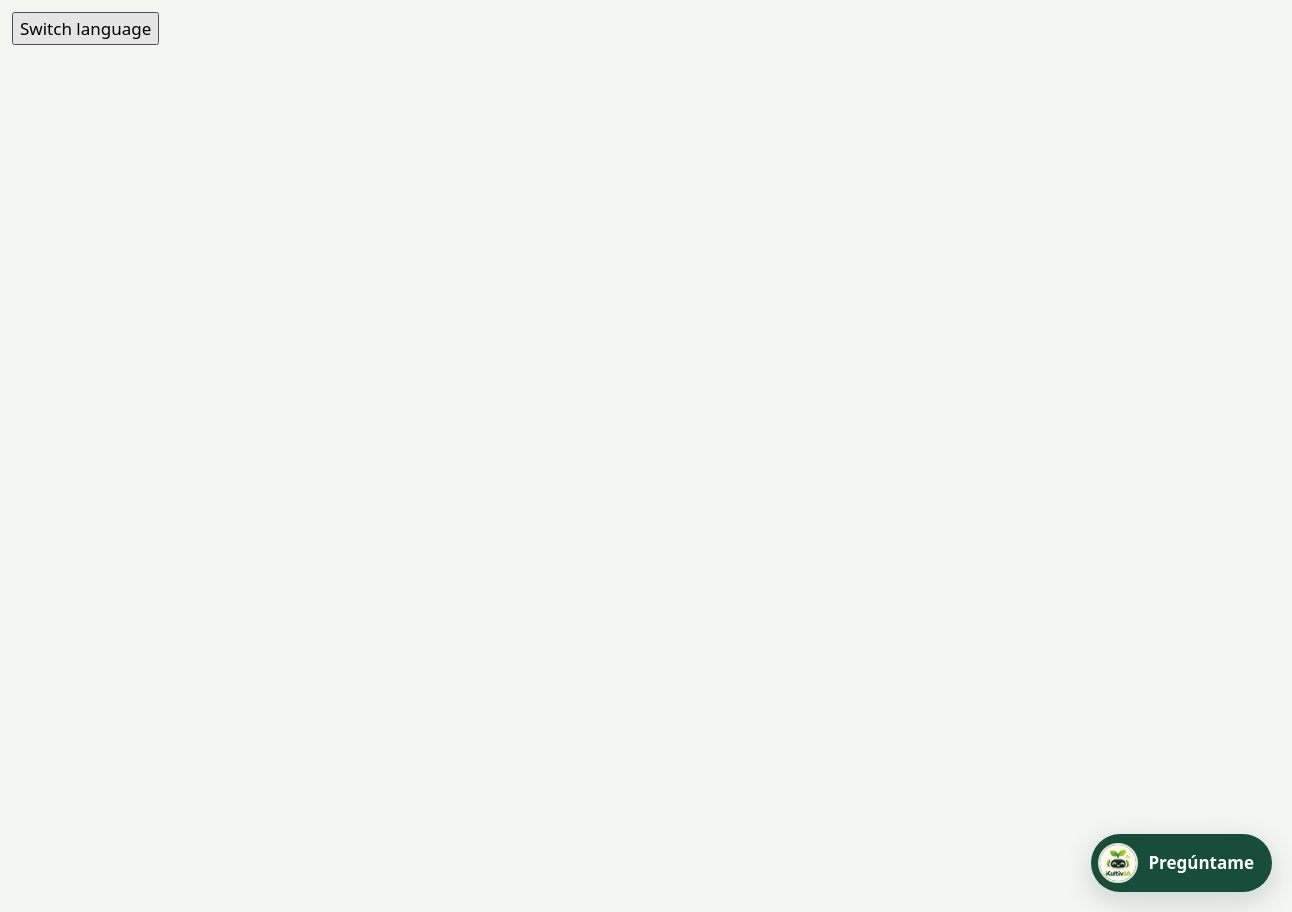
chat times out, restores the question and unlocks sending
What coordinates should you click on to do the following:
click the button "Pregúntame"
I would click on:
 (1182, 863)
Its box is [1091,834,1272,892].
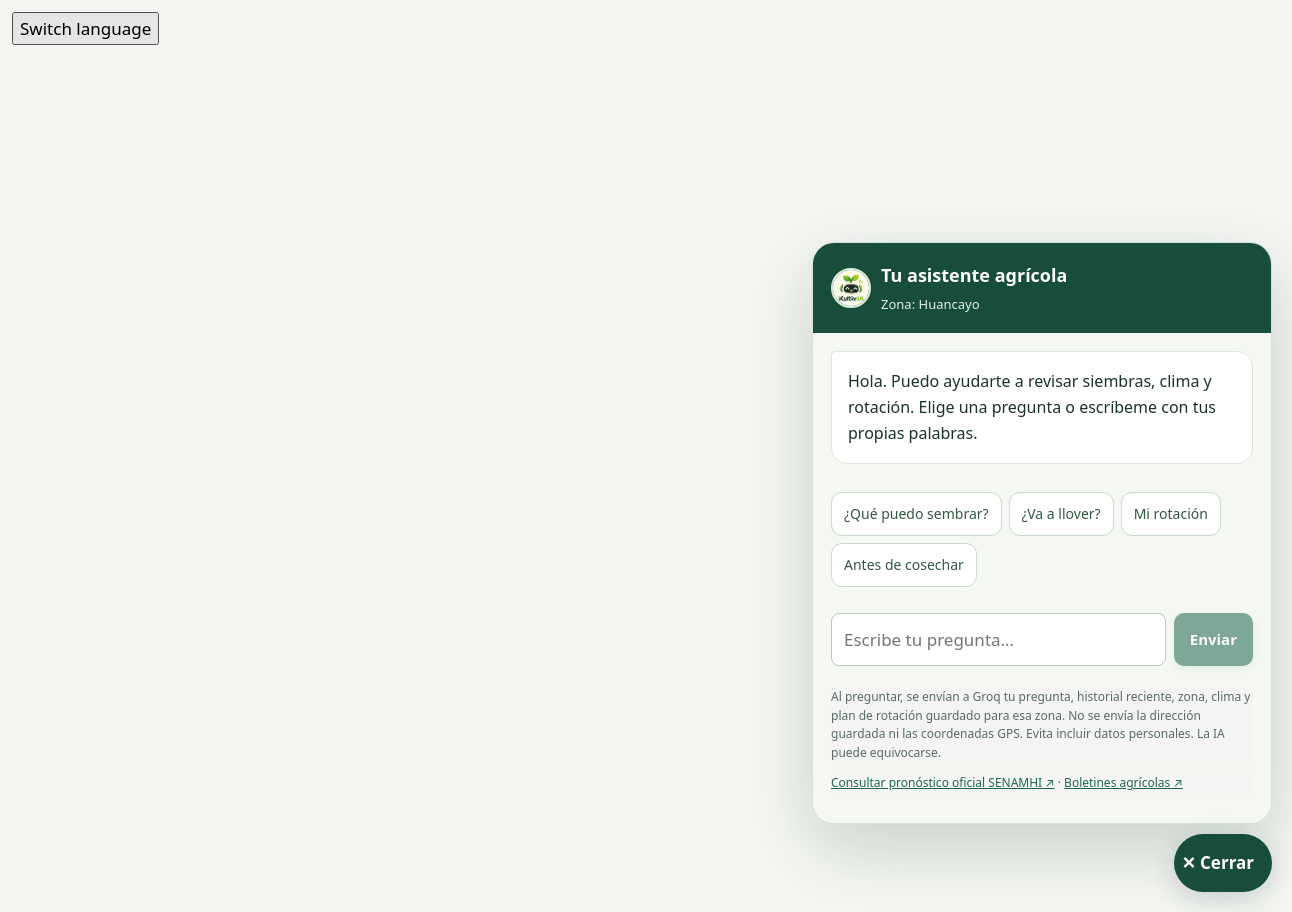
What coordinates should you click on to do the following:
click the button "¿Va a llover?"
I would click on:
 (1061, 514)
Its box is [1009,492,1114,536].
Wait 75000 ms
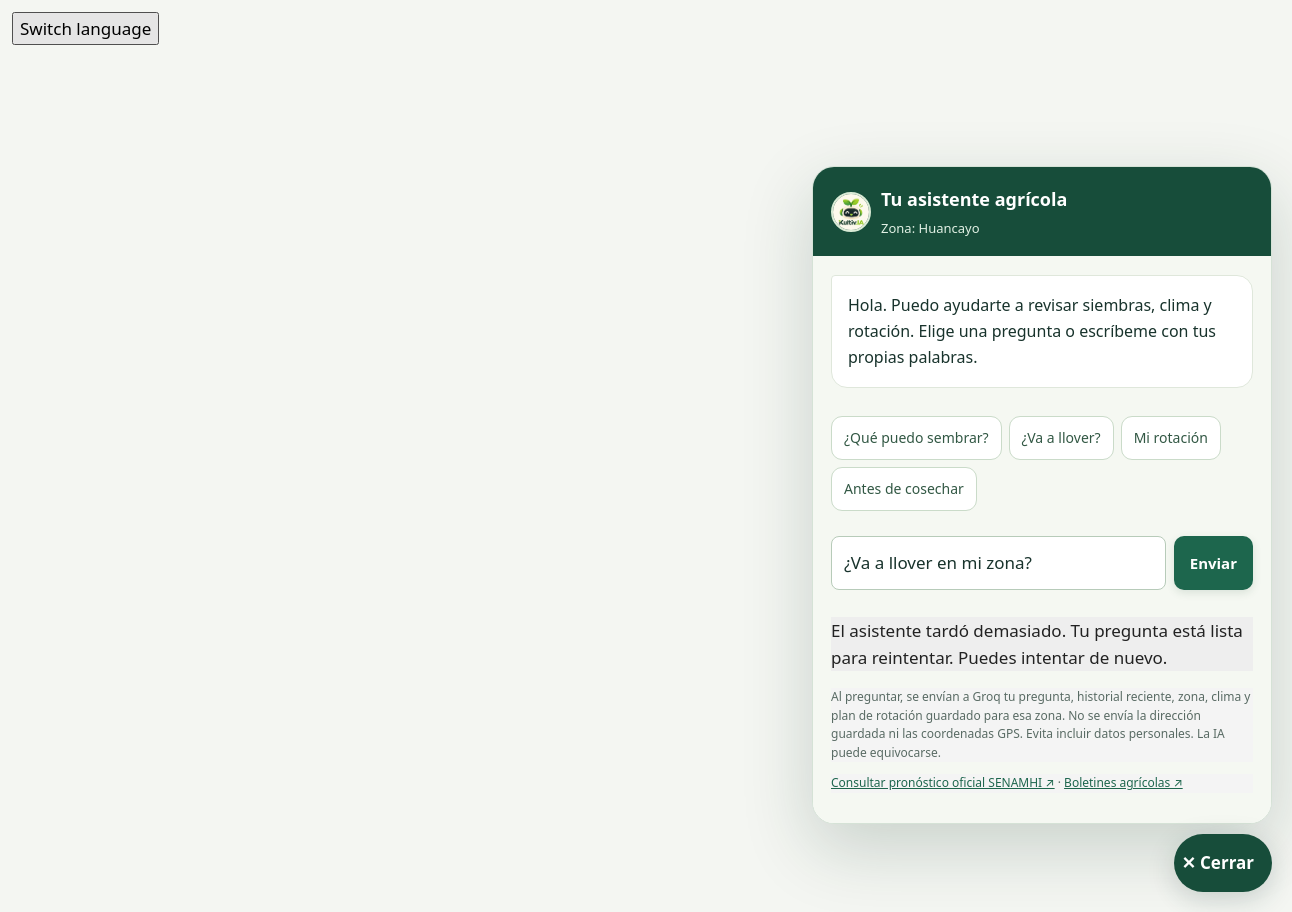
Expected: the message shows "tardó demasiado", [831,619,1243,669]
Expected: the field holds "¿Va a llover en mi zona?", [831,536,1166,590]
Expected: the button "Enviar" is enabled, [1174,536,1253,590]
